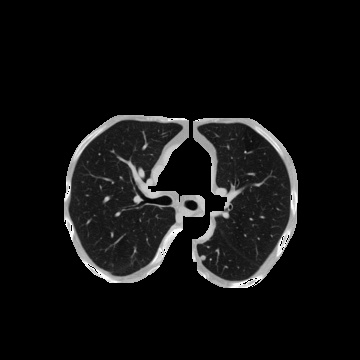PN: (200, 255, 206, 261)
